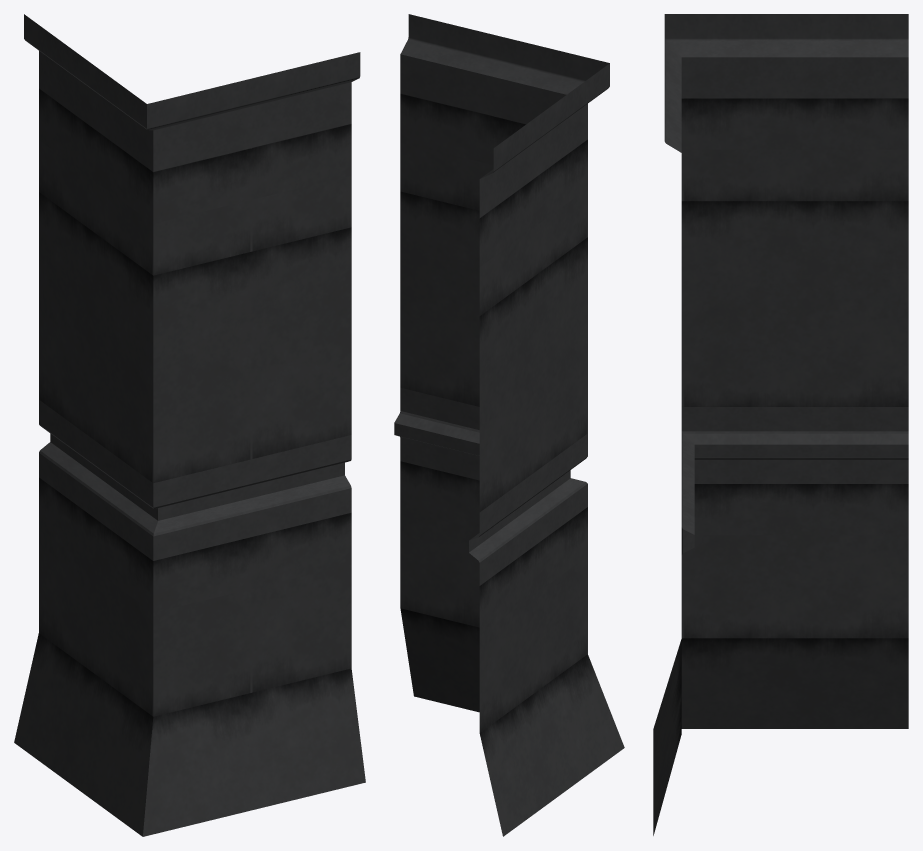
The model's file is M_Wall_Convex_Corner_4x14_v4.fbx.
The picture shows the model from 3 angles, left to right: view 1: azimuth 30°, elevation 25°; view 2: azimuth 150°, elevation 25°; view 3: azimuth 270°, elevation 25°; orthographic projection. The views are drawn at different scales.
Visible parts, largest first — view 1: Wall_Corner_Convex_4x14_v4; view 2: Wall_Corner_Convex_4x14_v4; view 3: Wall_Corner_Convex_4x14_v4.
Boxes of the visible parts, x1,y1,x2,y2 form: Wall_Corner_Convex_4x14_v4: [14, 14, 365, 836]; Wall_Corner_Convex_4x14_v4: [394, 14, 624, 836]; Wall_Corner_Convex_4x14_v4: [653, 14, 908, 835].
Bounding box in the file's own units: 450 × 1400 × 450.
